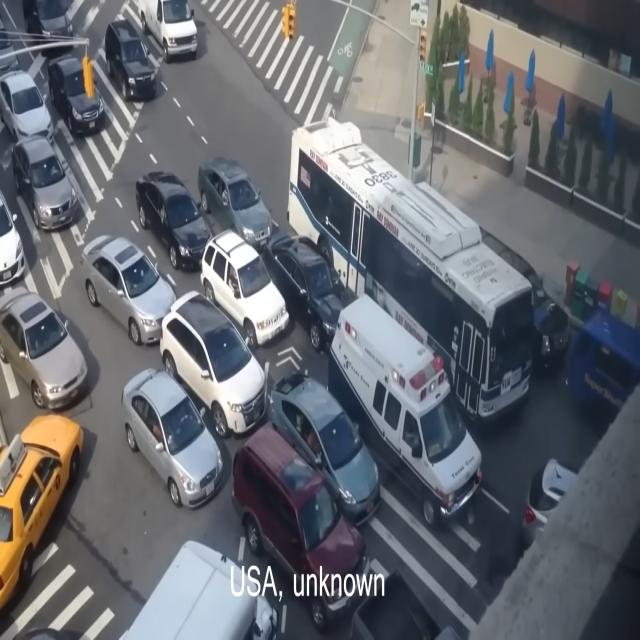ambulance: (340, 301, 451, 361)
